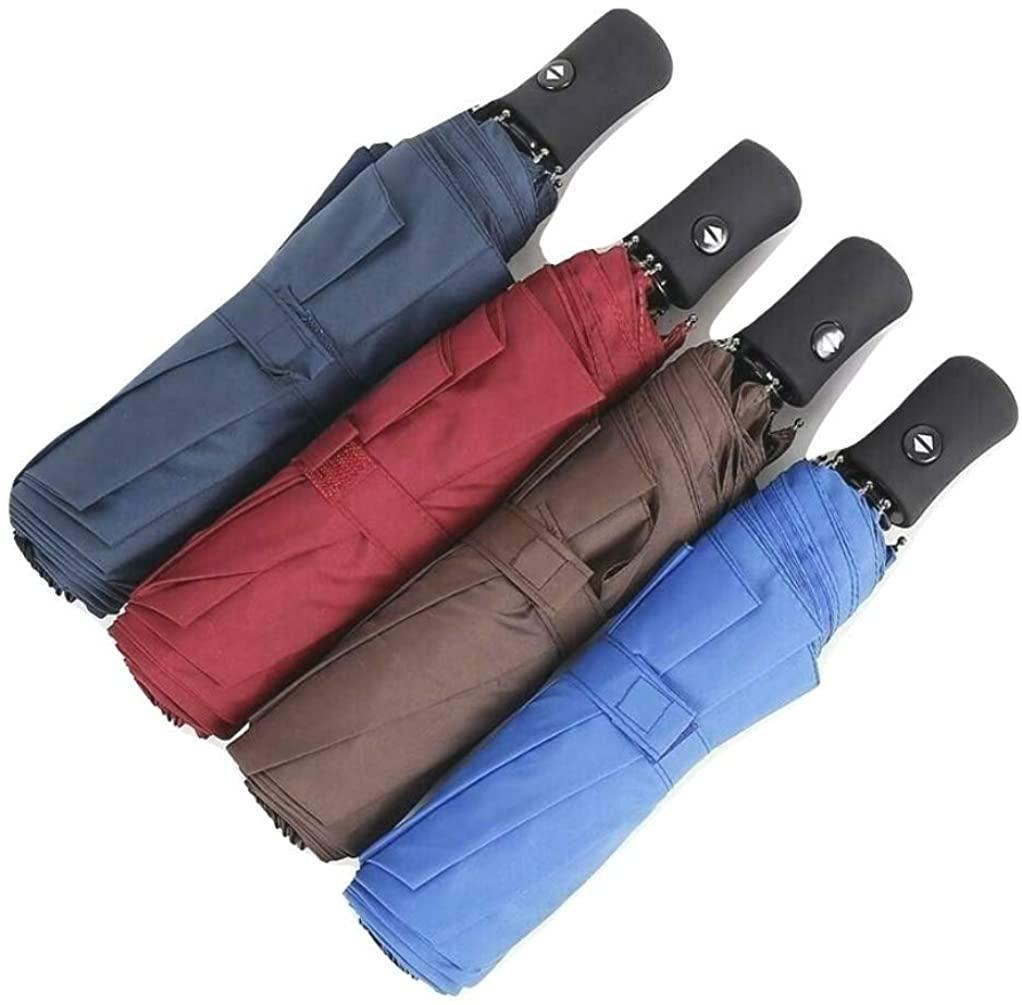Umbrella: (233, 233, 922, 940), (116, 118, 815, 798), (336, 340, 1022, 967), (13, 8, 689, 643)
